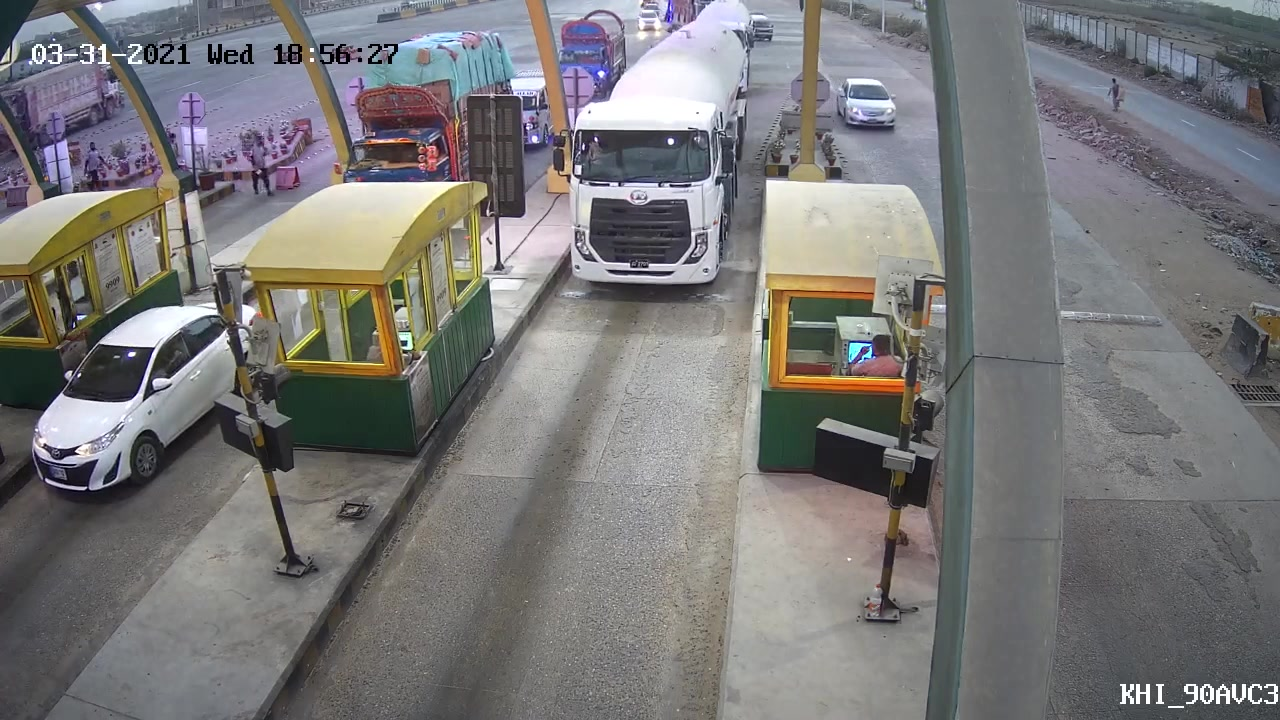F6: (549, 47, 749, 296)
